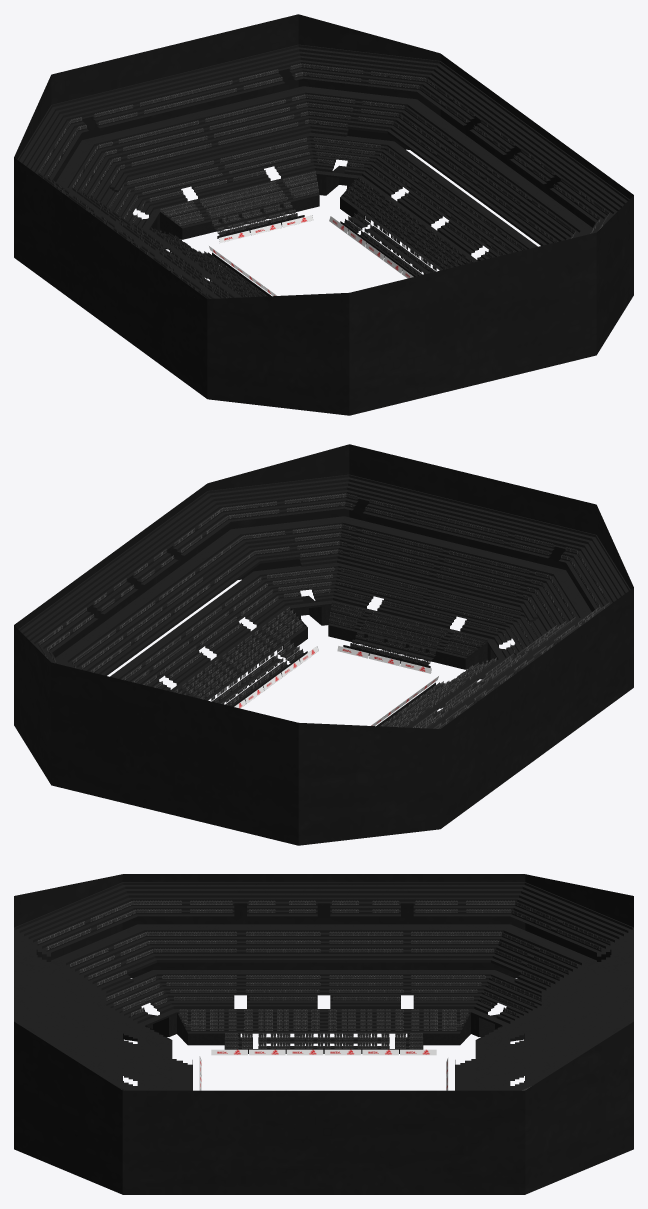
Rendered from Kobe_01.fbx.
3 renders of one model, top to bottom at view 1: azimuth 30°, elevation 25°; view 2: azimuth 150°, elevation 25°; view 3: azimuth 270°, elevation 25°, orthographic. The views are drawn at different scales.
Visible parts, largest first — view 1: Kobe_Stadium01; view 2: Kobe_Stadium01; view 3: Kobe_Stadium01.
Part boxes in pixels (bbox=[...]): Kobe_Stadium01: bbox=[14, 14, 633, 415]; Kobe_Stadium01: bbox=[14, 444, 633, 845]; Kobe_Stadium01: bbox=[14, 874, 633, 1194].
Bounding box in the file's own units: 9833 × 2929 × 11905.
